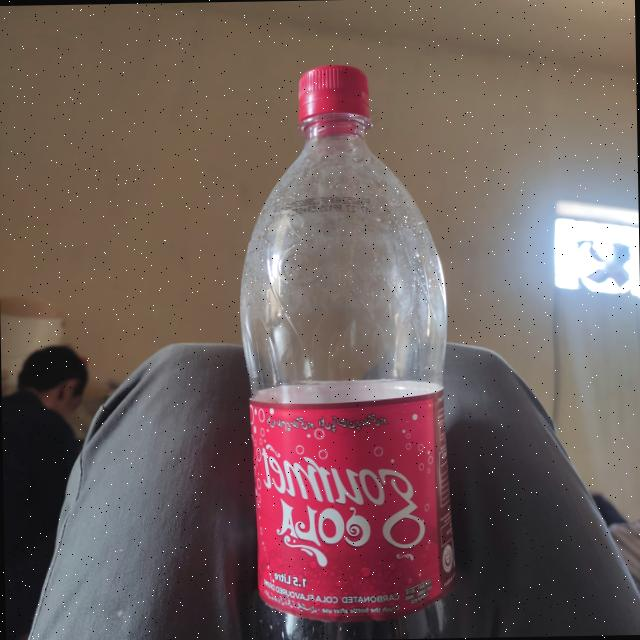bottle: (225, 59, 453, 640)
cap: (294, 63, 372, 130)
label: (247, 396, 453, 615)
